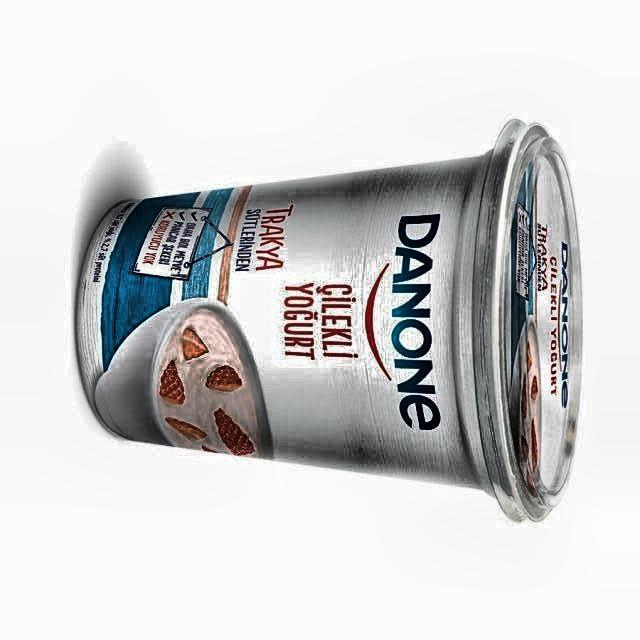plastic: (76, 121, 581, 519)
